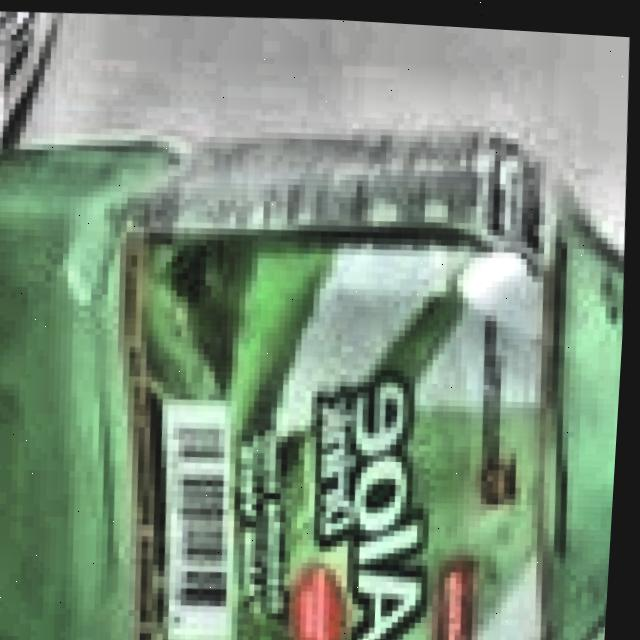plastic: (0, 69, 637, 640)
